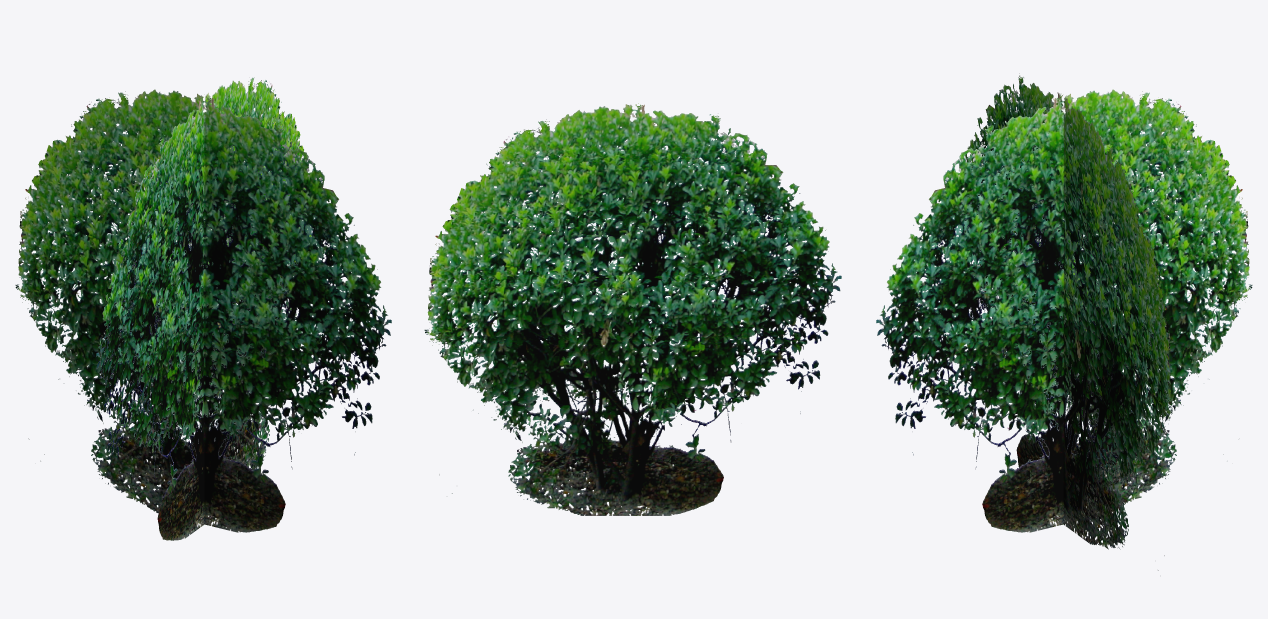
Rendered from huajia_tree.gltf.
3 renders of one model, left to right at view 1: azimuth 30°, elevation 25°; view 2: azimuth 150°, elevation 25°; view 3: azimuth 270°, elevation 25°, orthographic. The views are drawn at different scales.
Visible parts, largest first — view 1: shumu03; view 2: shumu03; view 3: shumu03.
Part boxes in pixels (box(x1,y1,x2,y2)): shumu03: box(15, 77, 391, 540); shumu03: box(424, 103, 841, 515); shumu03: box(876, 73, 1252, 570).
Size of the model in its own units: 0.9712 by 1.21 by 0.9712.
Materials: 1 (1 with a texture image).
